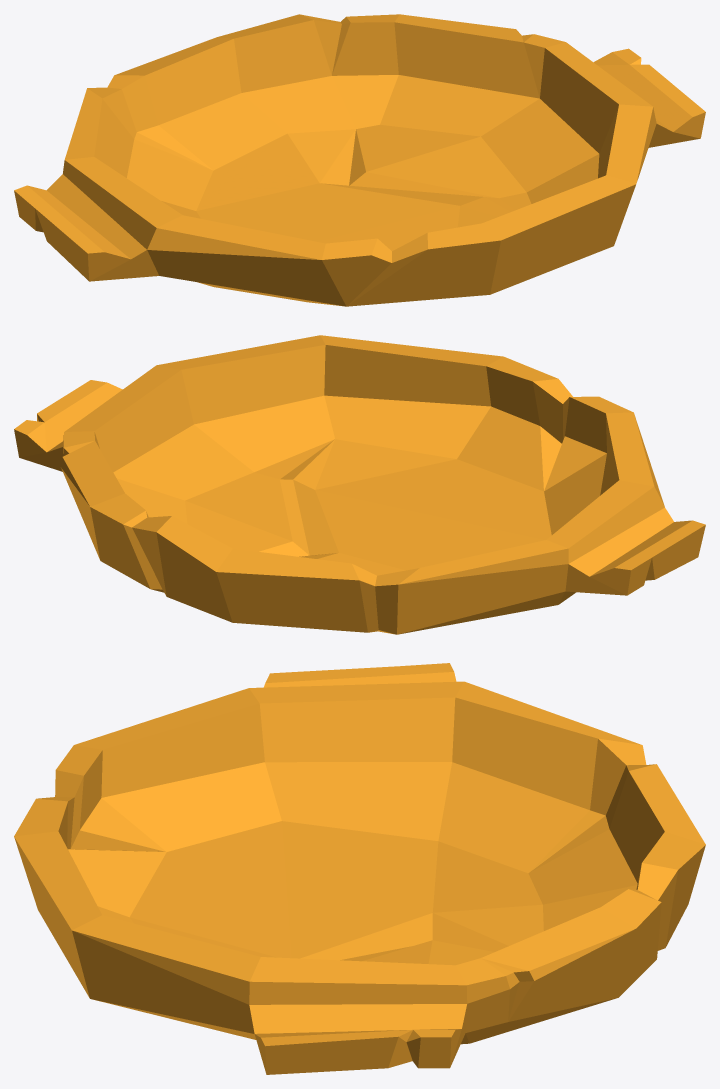
Rendered from SM_Plate_Wood_Broken_Handle.fbx.
The picture shows the model from 3 angles, top to bottom: view 1: azimuth 30°, elevation 25°; view 2: azimuth 150°, elevation 25°; view 3: azimuth 270°, elevation 25°; orthographic projection. The views are drawn at different scales.
Visible parts, largest first — view 1: plate-wood-broken-handle; view 2: plate-wood-broken-handle; view 3: plate-wood-broken-handle.
Boxes of the visible parts, x1,y1,x2,y2 form: plate-wood-broken-handle: (14,14,705,306); plate-wood-broken-handle: (14,335,705,634); plate-wood-broken-handle: (14,663,705,1074).
Size of the model in its own units: 0.3065 by 0.0463 by 0.2462.
